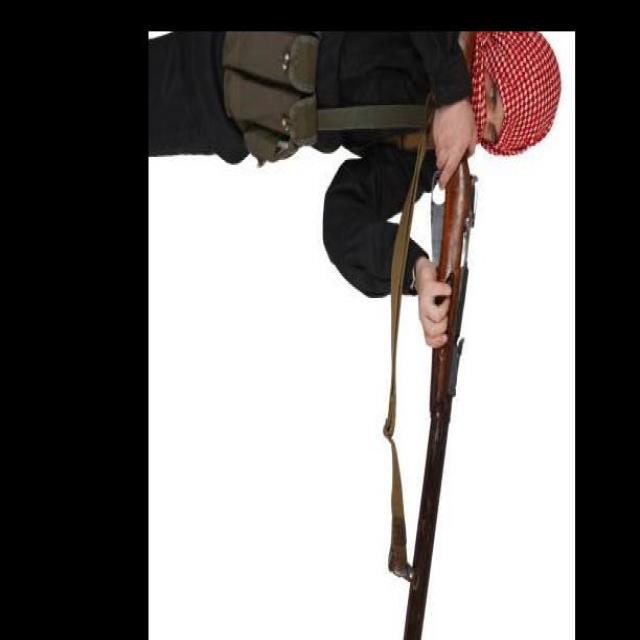heavy-weapon: (402, 30, 479, 640)
